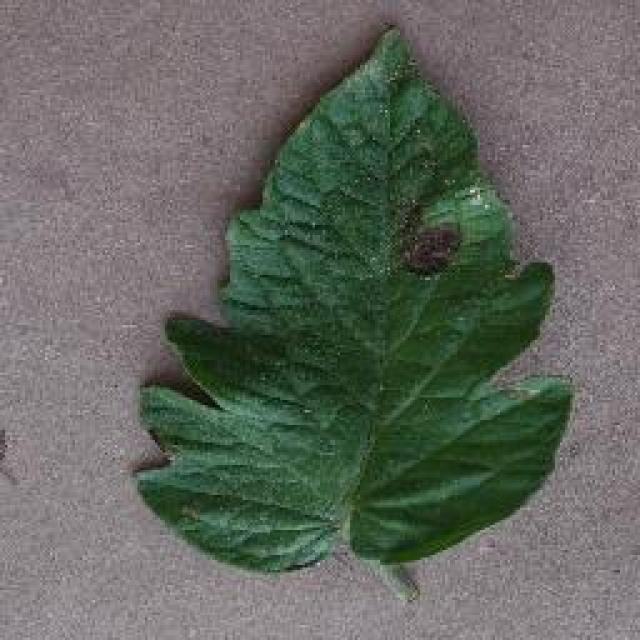Tomato Early blight leaf: (142, 18, 580, 572)
